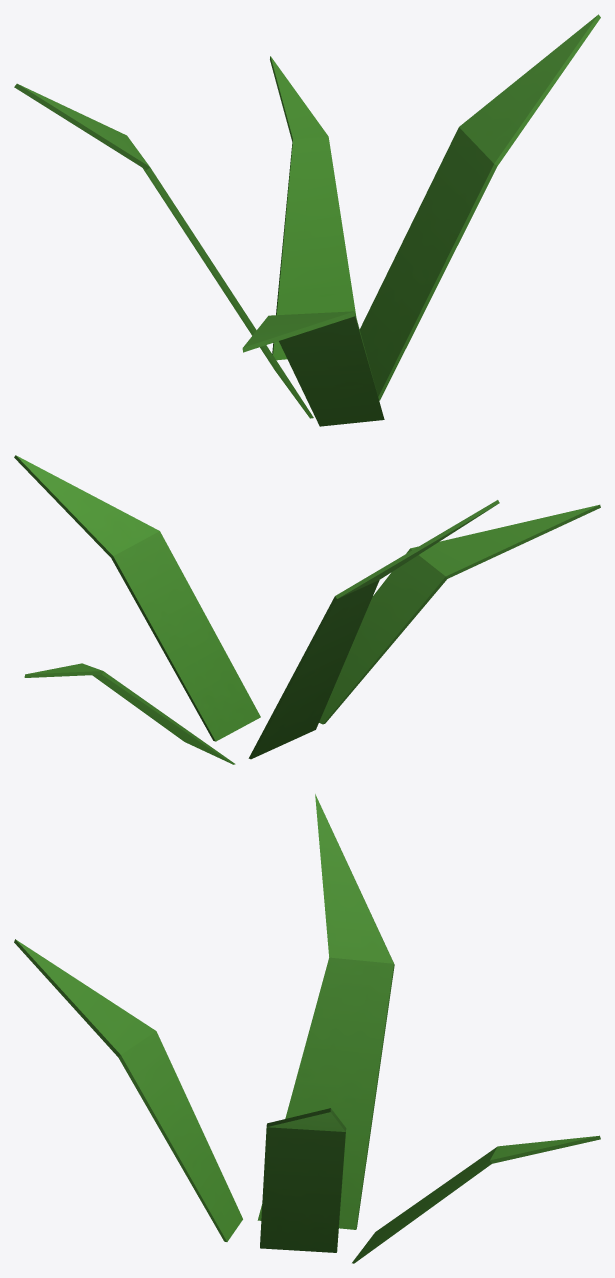
The model's file is grass_patch_01_solidified.fbx.
3 views of the same model, one above another, from view 1: azimuth 30°, elevation 25°; view 2: azimuth 150°, elevation 25°; view 3: azimuth 270°, elevation 25° (orthographic). The views are drawn at different scales.
Visible parts, largest first — view 1: grass_patch_01_solidified; view 2: grass_patch_01_solidified; view 3: grass_patch_01_solidified.
Boxes of the visible parts, left/top/right/bottom form: grass_patch_01_solidified: left=14, top=14, right=600, bottom=426; grass_patch_01_solidified: left=14, top=455, right=600, bottom=764; grass_patch_01_solidified: left=14, top=794, right=600, bottom=1263.
Bounding box in the file's own units: 1 × 0.6 × 1.
Materials: 1 (1 with a texture image).
